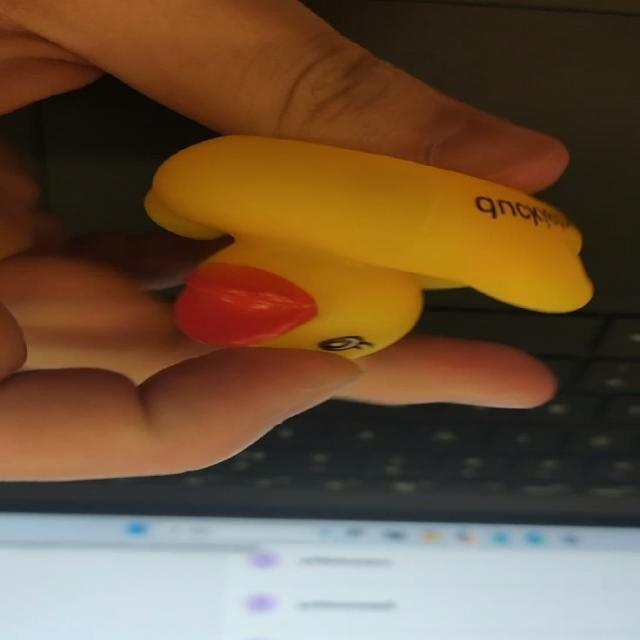rubber-duck: (145, 135, 591, 356)
